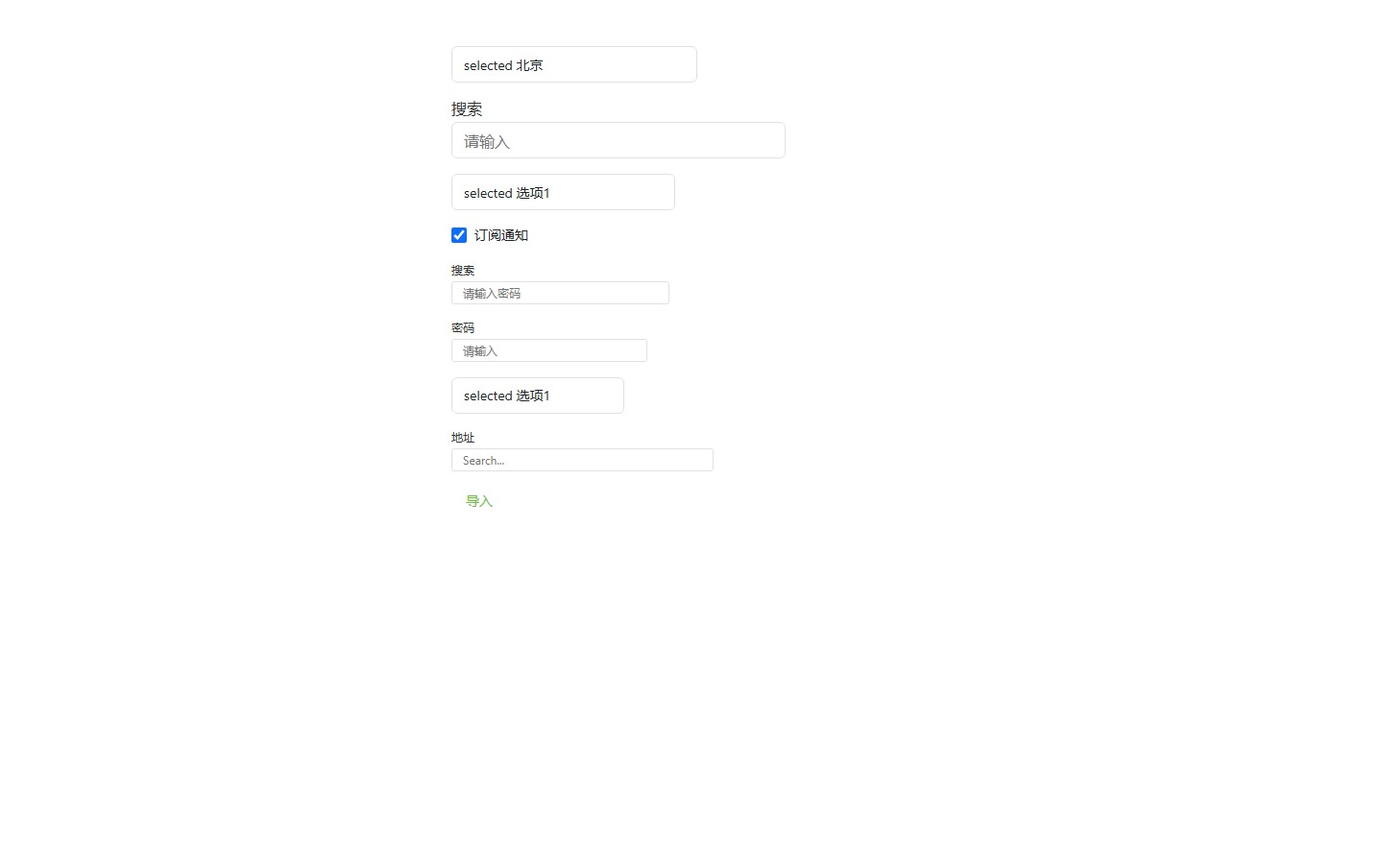button: (451, 486, 507, 515)
checkbox: (451, 227, 467, 242)
icon: (474, 226, 528, 244)
input: (451, 122, 786, 158), (451, 448, 714, 471), (451, 281, 669, 304), (451, 338, 647, 361)
radio: (451, 226, 528, 244)
select: (451, 46, 697, 83), (451, 174, 675, 210), (451, 377, 624, 413)
